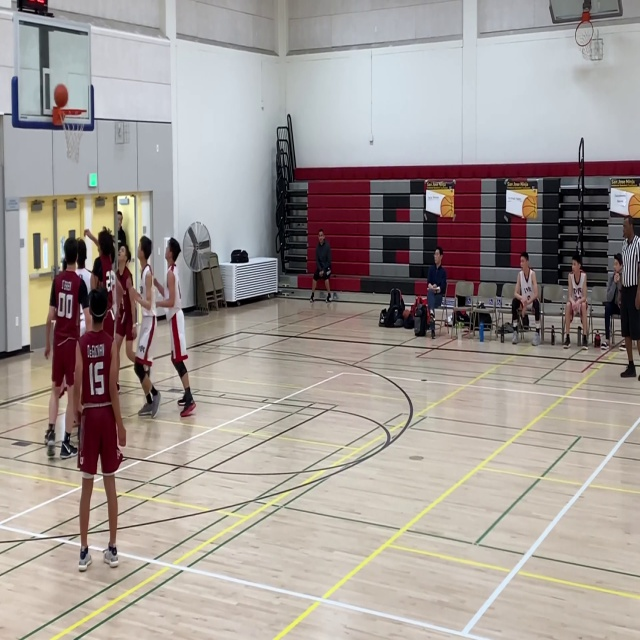Basketball: (54, 84, 68, 108), (628, 194, 640, 219)
